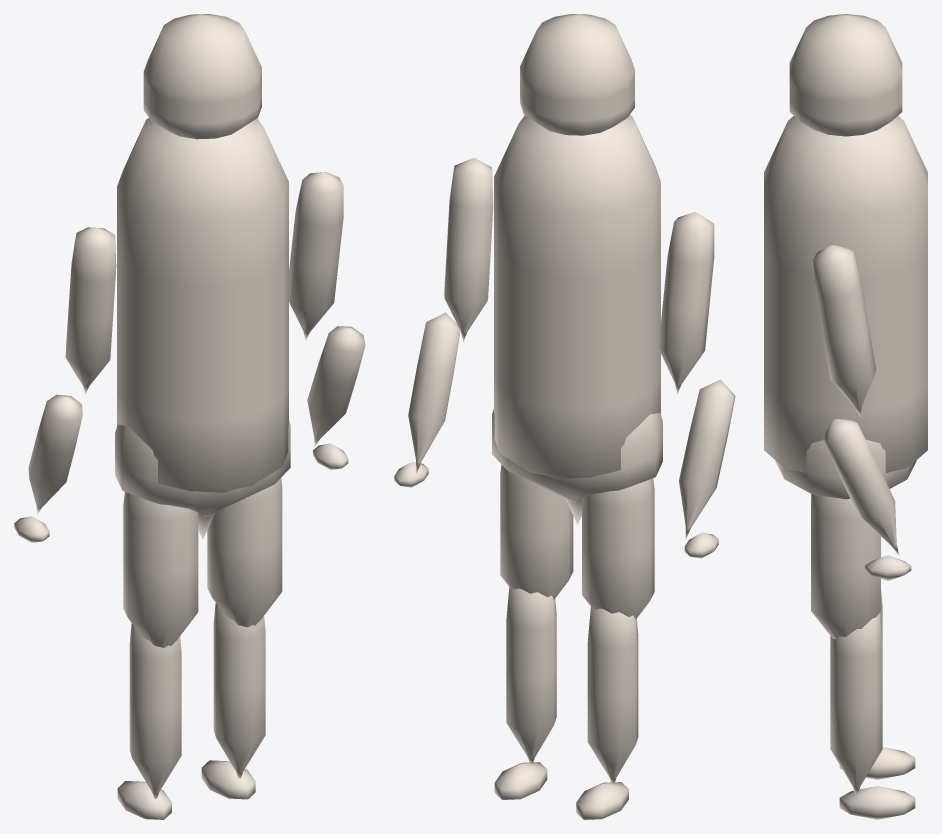
The model's file is human.glb.
3 renders of one model, left to right at view 1: azimuth 30°, elevation 25°; view 2: azimuth 150°, elevation 25°; view 3: azimuth 270°, elevation 25°, orthographic. The views are drawn at different scales.
Visible parts, largest first — view 1: HumanBody; view 2: HumanBody; view 3: HumanBody.
Part boxes in pixels (box(x1,y1,x2,y2)): HumanBody: box(14, 14, 365, 819); HumanBody: box(394, 14, 735, 819); HumanBody: box(764, 14, 927, 819).
Bounding box in the file's own units: 0.696 × 1.65 × 0.312.
